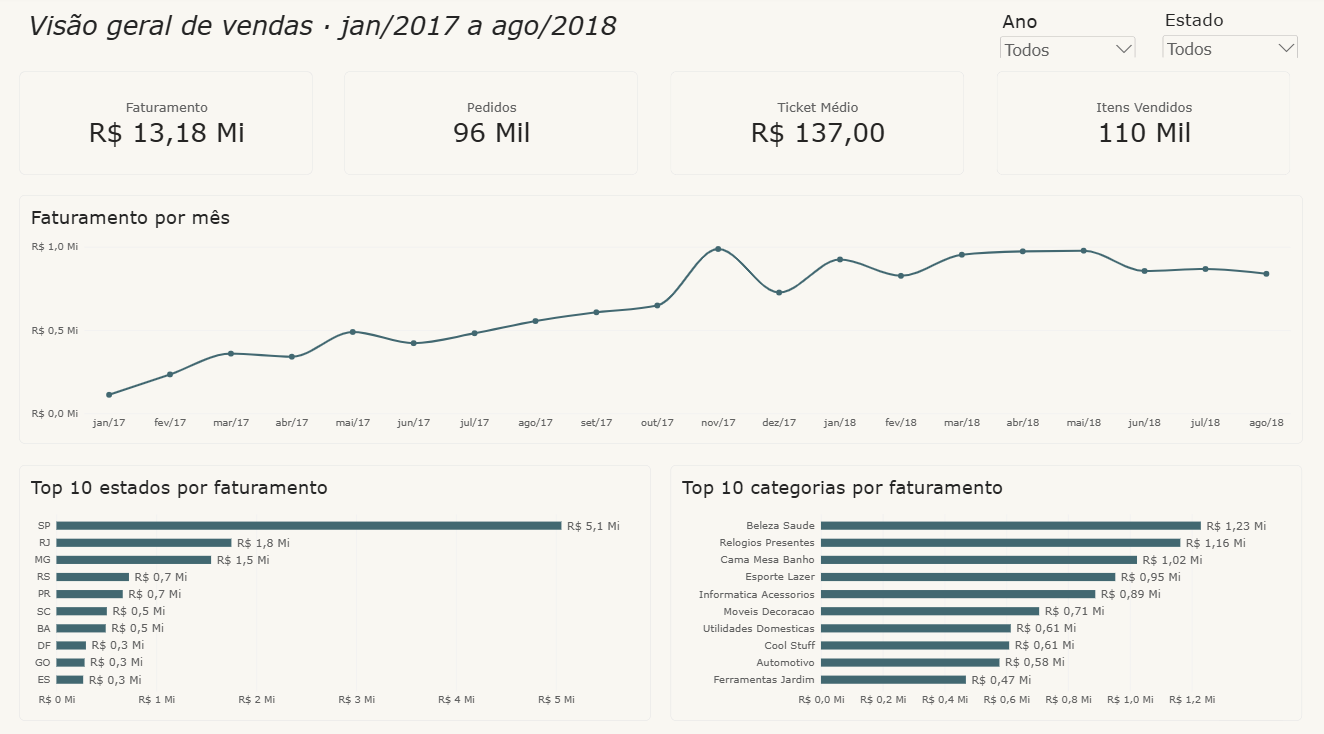

The dashboard page shown, as its layout file describes it:
{"tool":"powerbi","page":{"name":"Visão Geral","canvas":[1920,1080],"ordinal":0},"visuals":[{"type":"cardVisual","fields":{"Data":["vw_fato_vendas.Faturamento"]},"box":[30,110,442,150],"z":0},{"type":"actionButton","box":[0,0,100,40],"z":1000},{"type":"cardVisual","fields":{"Data":["vw_fato_vendas.Pedidos"]},"box":[502,110,442,150],"z":2000},{"type":"cardVisual","fields":{"Data":["vw_fato_vendas.Ticket Médio"]},"box":[974,110,442,150],"z":3000},{"type":"cardVisual","fields":{"Data":["vw_fato_vendas.Itens Vendidos"]},"box":[1446,110,442,150],"z":4000},{"type":"lineChart","title":"Faturamento por mês","fields":{"Category":["Calendario.Mês/Ano"],"Y":["vw_fato_vendas.Faturamento"]},"box":[30,290,1858,360],"z":5000},{"type":"clusteredBarChart","title":"Top 10 estados por faturamento","fields":{"Category":["vw_dim_clientes.estado"],"Y":["vw_fato_vendas.Faturamento"]},"box":[30,680,914,370],"z":6000},{"type":"clusteredBarChart","title":"Top 10 categorias por faturamento","fields":{"Category":["vw_dim_produtos.categoria"],"Y":["vw_fato_vendas.Faturamento"]},"box":[974,680,914,370],"z":7000},{"type":"slicer","fields":{"Values":["Calendario.Ano"]},"box":[1446,20,206,70],"z":8000},{"type":"slicer","fields":{"Values":["vw_dim_clientes.estado"]},"box":[1682,20,206,70],"z":9000},{"type":"textbox","box":[30,20,1000,70],"z":13000}]}

Visuals, with their boxes in screenshot pixels (x1, y1, x2, y2), scaled from the page's 1920x1080 canvas onto the 1324x734 screenshot:
cardVisual - vw_fato_vendas.Faturamento: x1=21 y1=75 x2=325 y2=177
actionButton: x1=0 y1=0 x2=69 y2=27
cardVisual - vw_fato_vendas.Pedidos: x1=346 y1=75 x2=651 y2=177
cardVisual - vw_fato_vendas.Ticket Médio: x1=672 y1=75 x2=976 y2=177
cardVisual - vw_fato_vendas.Itens Vendidos: x1=997 y1=75 x2=1302 y2=177
"Faturamento por mês" lineChart: x1=21 y1=197 x2=1302 y2=442
"Top 10 estados por faturamento" clusteredBarChart: x1=21 y1=462 x2=651 y2=714
"Top 10 categorias por faturamento" clusteredBarChart: x1=672 y1=462 x2=1302 y2=714
slicer - Calendario.Ano: x1=997 y1=14 x2=1139 y2=61
slicer - vw_dim_clientes.estado: x1=1160 y1=14 x2=1302 y2=61
textbox: x1=21 y1=14 x2=710 y2=61
